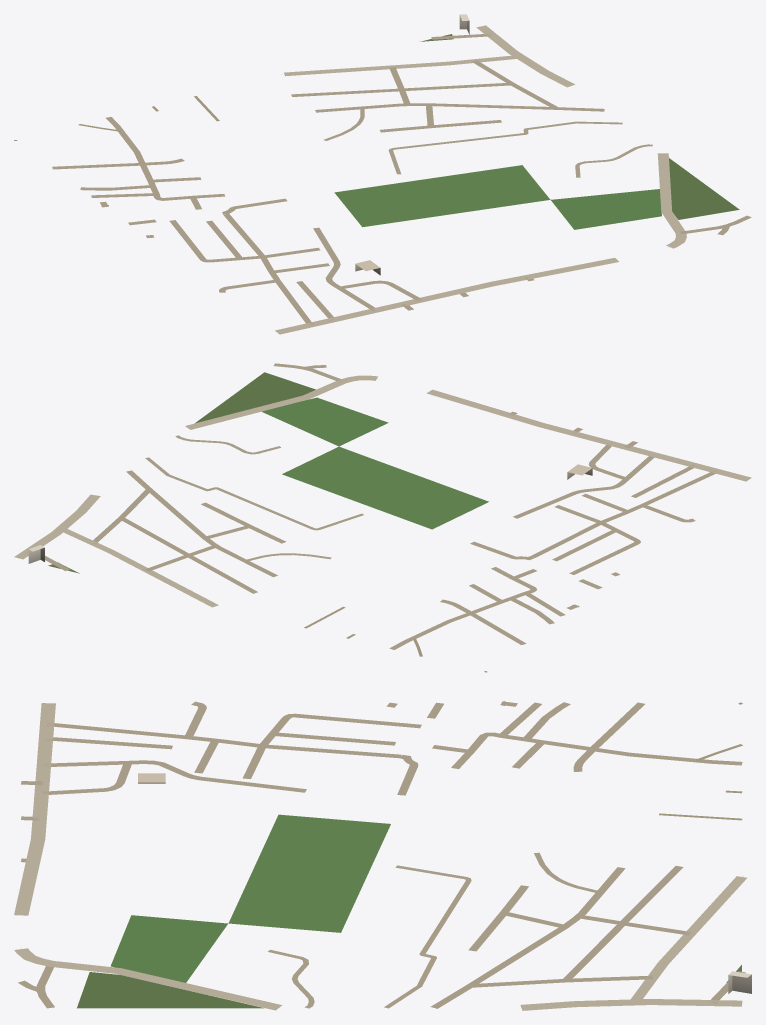
The picture shows the model from 3 angles, top to bottom: view 1: azimuth 30°, elevation 25°; view 2: azimuth 150°, elevation 25°; view 3: azimuth 270°, elevation 25°; orthographic projection. The views are drawn at different scales.
Parts seen in each view (by area): view 1: ground; view 2: ground; view 3: ground, building.
Boxes of the visible parts, left/top/right/bottom form: ground: left=14, top=25, right=751, bottom=334; ground: left=14, top=363, right=751, bottom=672; ground: left=14, top=701, right=746, bottom=1010; building: left=138, top=773, right=751, bottom=993.
Bounding box in the file's own units: 508 × 15 × 512.
